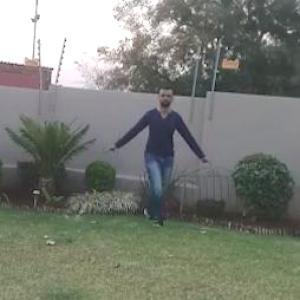land: (105, 86, 214, 230)
